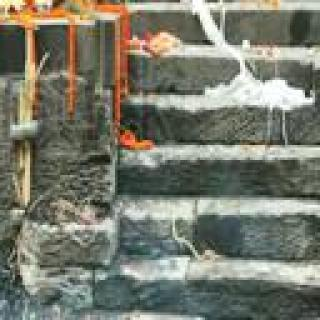fire: (0, 0, 30, 12)
